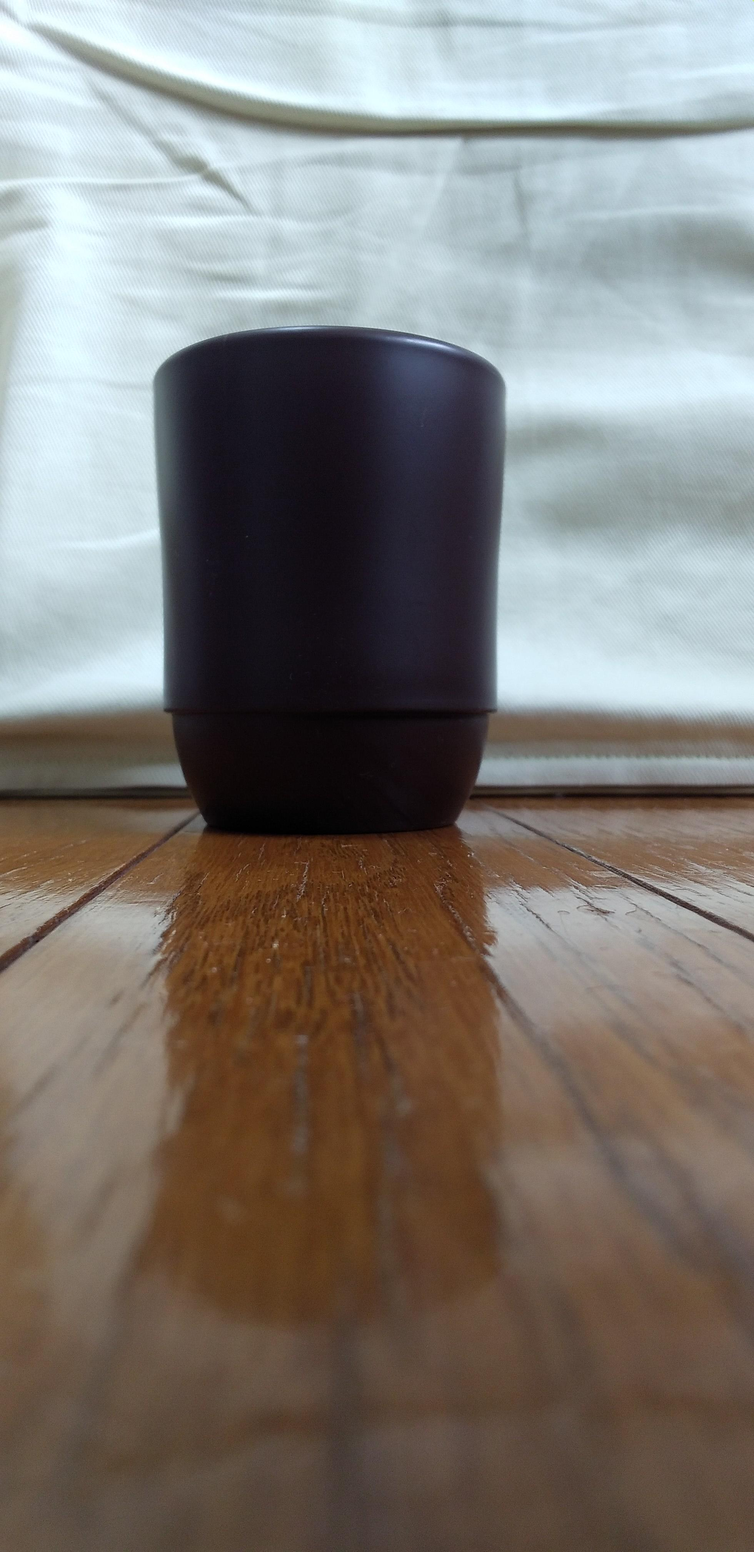mug-real100-3d100: (155, 328, 504, 833)
